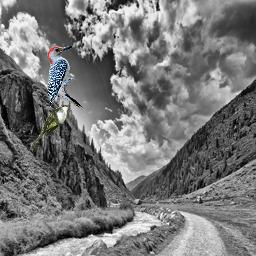Cuckoo: (29, 104, 71, 151)
Woodpecker: (44, 43, 86, 113)
